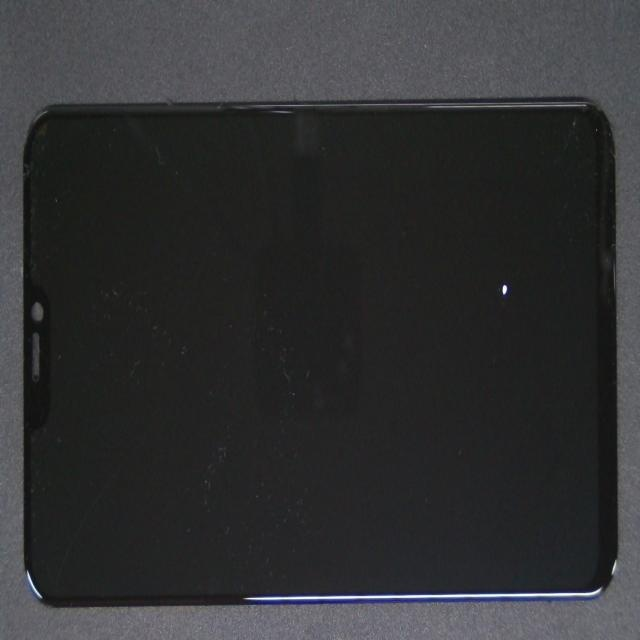stain: (214, 107, 640, 446)
